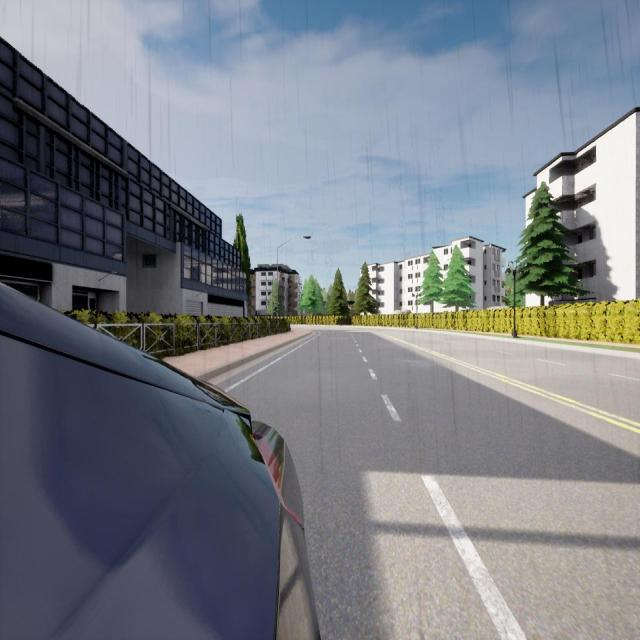Vehicle: (1, 286, 320, 639)
